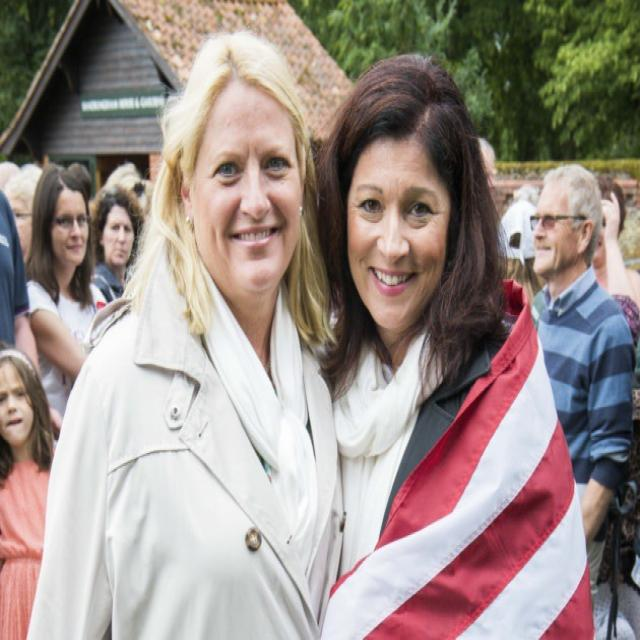body: (24, 30, 347, 640), (312, 50, 595, 640), (528, 161, 638, 614), (20, 160, 110, 430), (590, 173, 640, 630), (0, 345, 58, 640), (460, 137, 548, 310), (0, 154, 44, 472), (88, 180, 146, 314), (60, 158, 157, 232)
